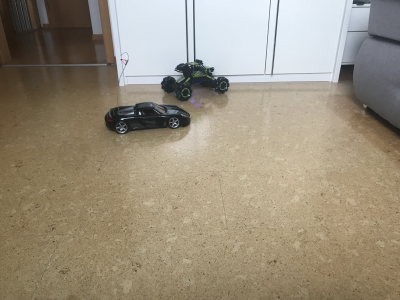remote control car: (160, 55, 232, 101)
